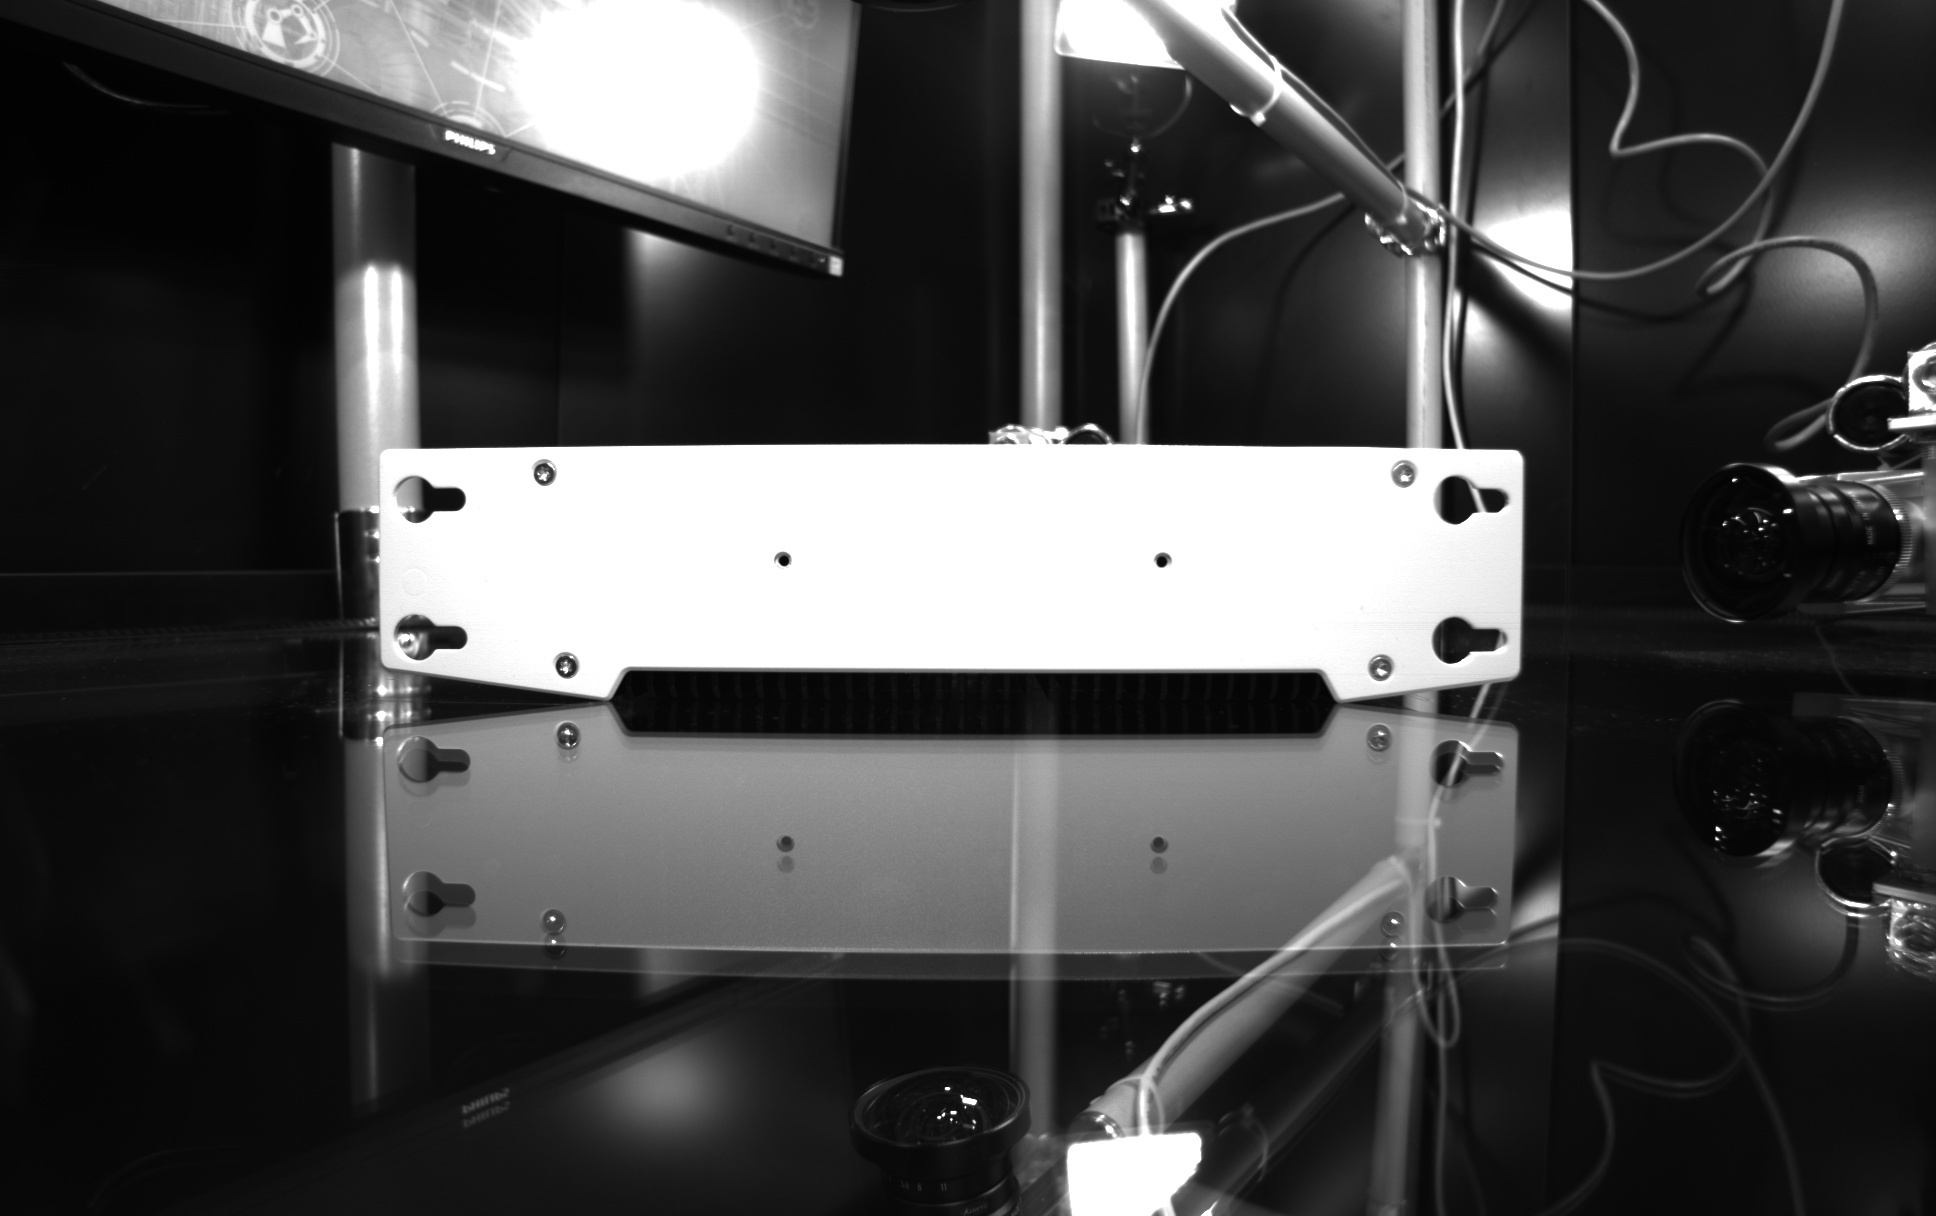CamBack: (361, 426, 1548, 705)
Schraube: (1383, 452, 1422, 493), (524, 451, 563, 490), (544, 644, 583, 684), (1362, 649, 1399, 689)
Schraube_gespiegelt: (530, 905, 579, 964), (1373, 905, 1413, 974), (545, 714, 591, 772), (1357, 717, 1401, 778)
